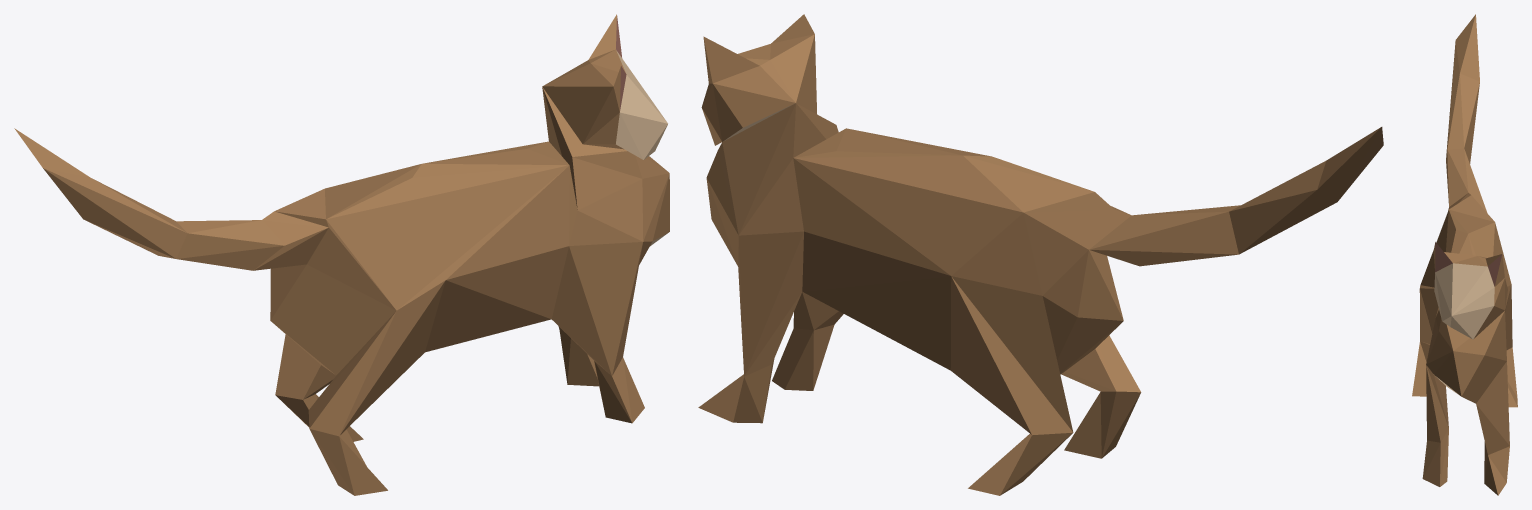
File: cat_200.glb
3 views of the same model, side by side, from view 1: azimuth 30°, elevation 25°; view 2: azimuth 150°, elevation 25°; view 3: azimuth 270°, elevation 25° (orthographic). The views are drawn at different scales.
Parts seen in each view (by area): view 1: cat_200; view 2: cat_200; view 3: cat_200.
Boxes of the visible parts, left/top/right/bottom form: cat_200: left=14, top=14, right=669, bottom=495; cat_200: left=698, top=14, right=1383, bottom=495; cat_200: left=1412, top=14, right=1517, bottom=495.
Bounding box in the file's own units: 0.6628 × 0.4003 × 0.1399.
